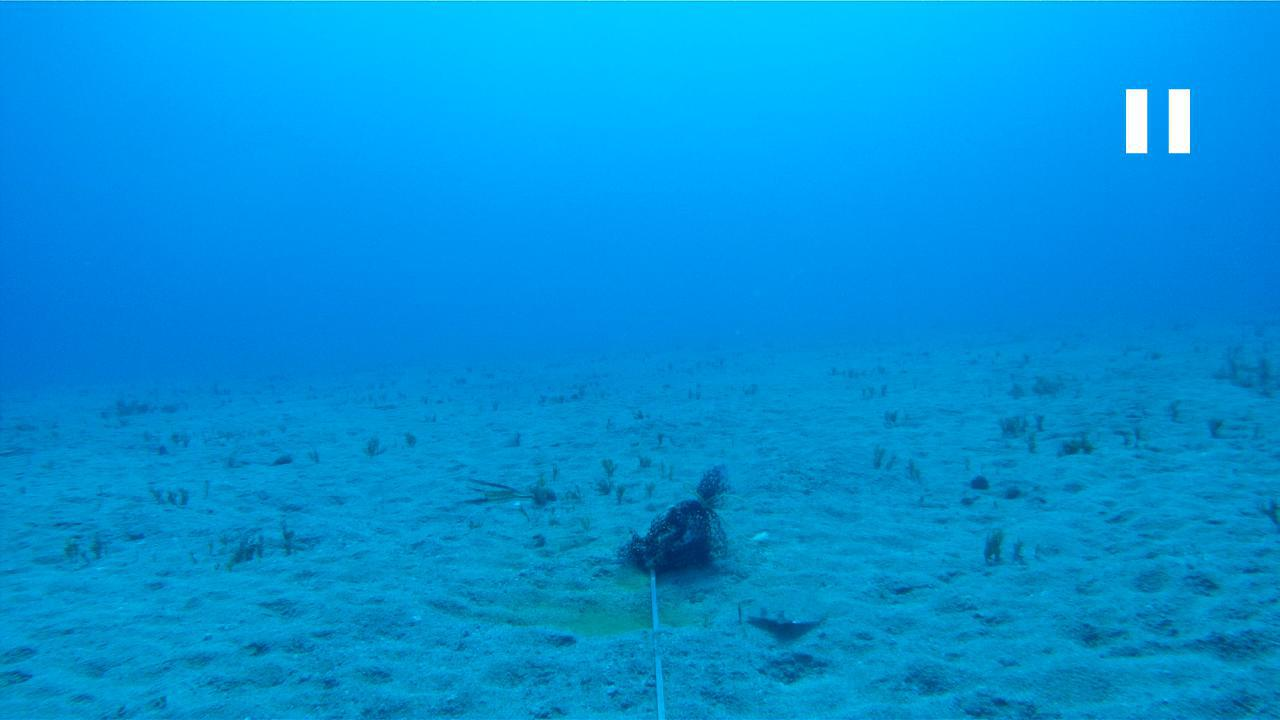bothus: (744, 588, 841, 634)
